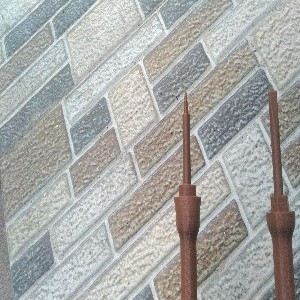obeng: (265, 90, 297, 300)
solder: (173, 90, 202, 300)
